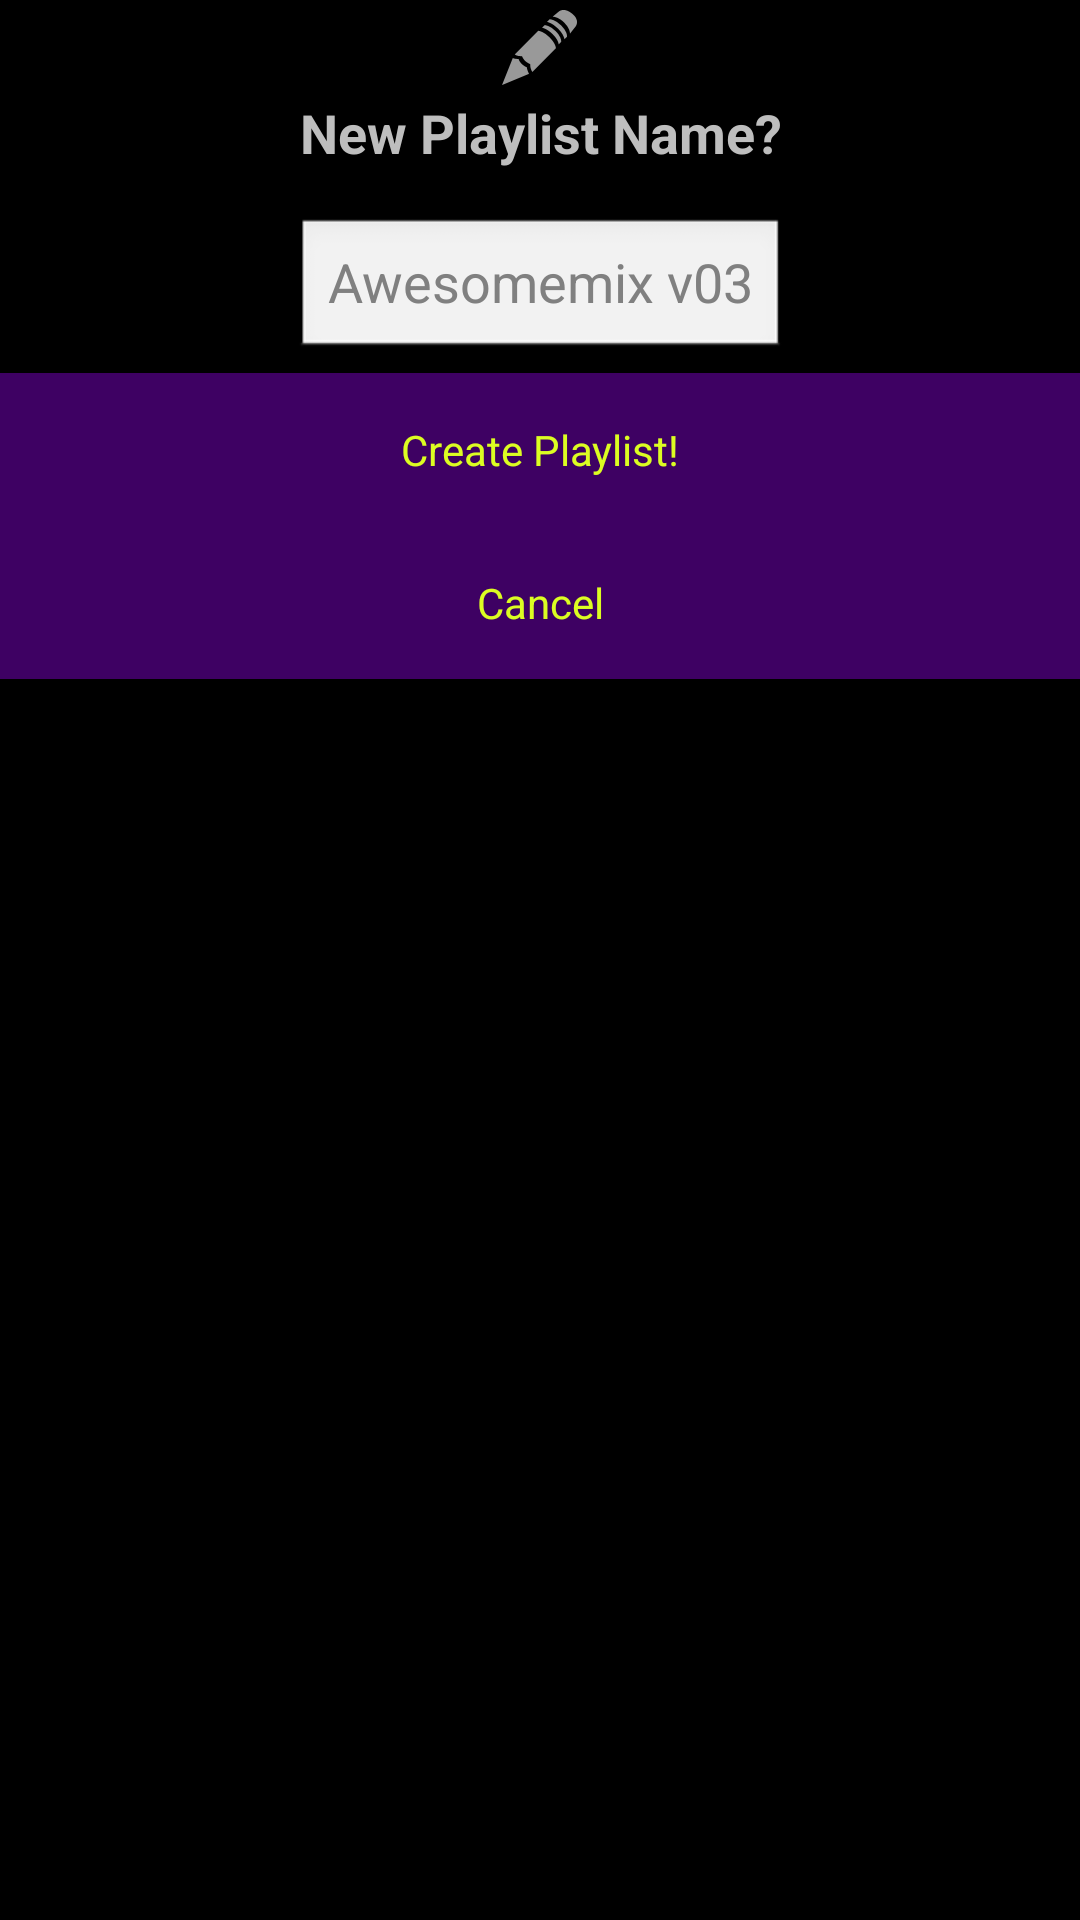

Locate icon controls on the screen. Image size 1080px×1920px, boxes as (x1, y1, x2, y2).
edit: (502, 10, 577, 85)
